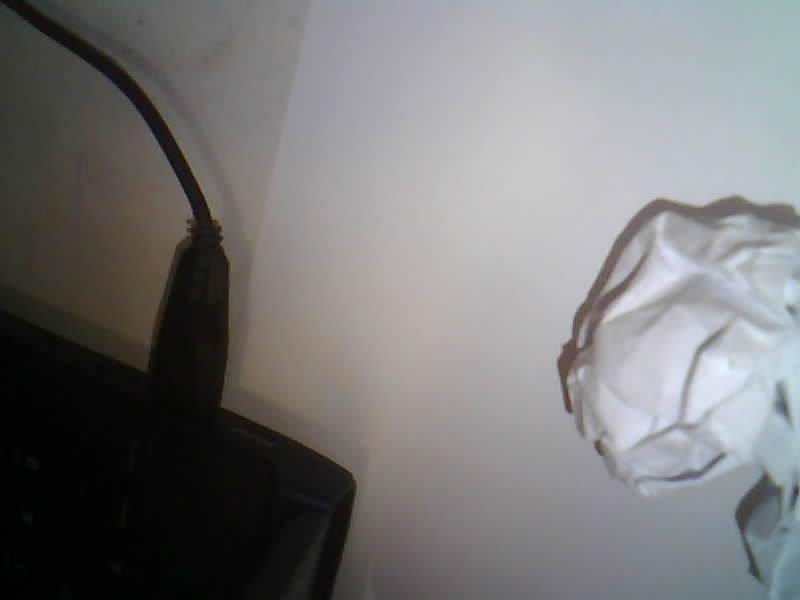biodegradable: (559, 198, 799, 599)
